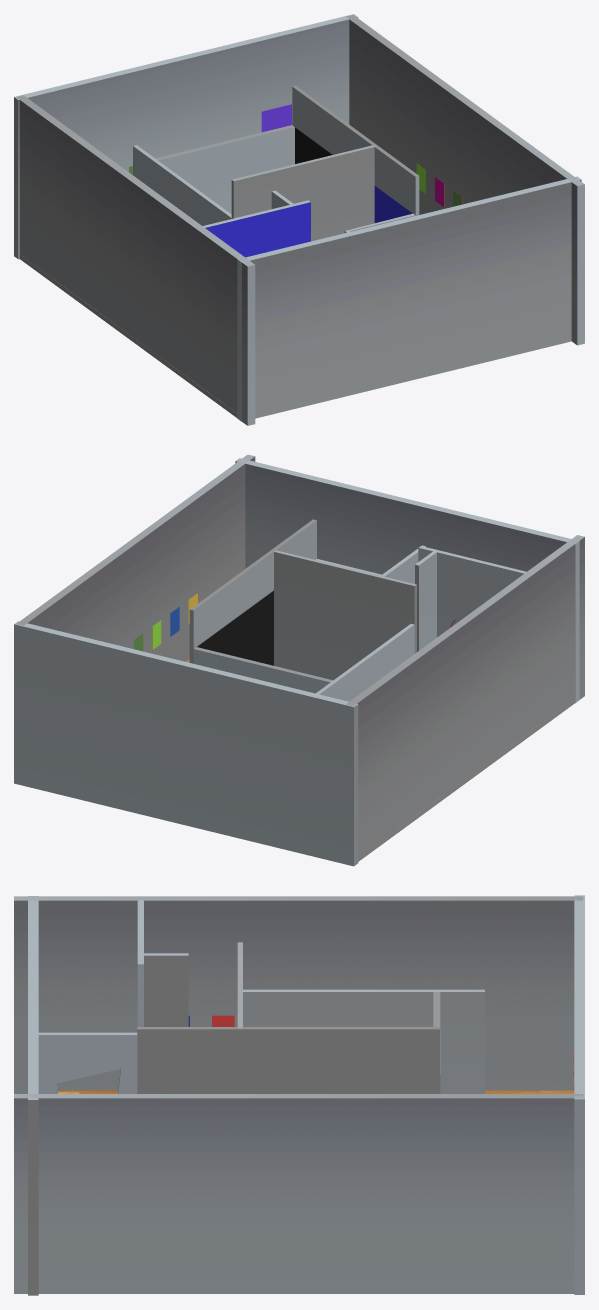
File: MarkGallery04.glb
3 views of the same model, one above another, from view 1: azimuth 30°, elevation 25°; view 2: azimuth 150°, elevation 25°; view 3: azimuth 270°, elevation 25° (orthographic). The views are drawn at different scales.
Visible parts, largest first — view 1: Plane; view 2: Plane; view 3: Plane.
Boxes of the visible parts, box(x1,y1,x2,y2) form: Plane: box(14, 14, 584, 425); Plane: box(14, 454, 584, 866); Plane: box(14, 895, 584, 1295).
Bounding box in the file's own units: 8.96 × 4 × 10.58.
Materials: 1 (1 with a texture image).
